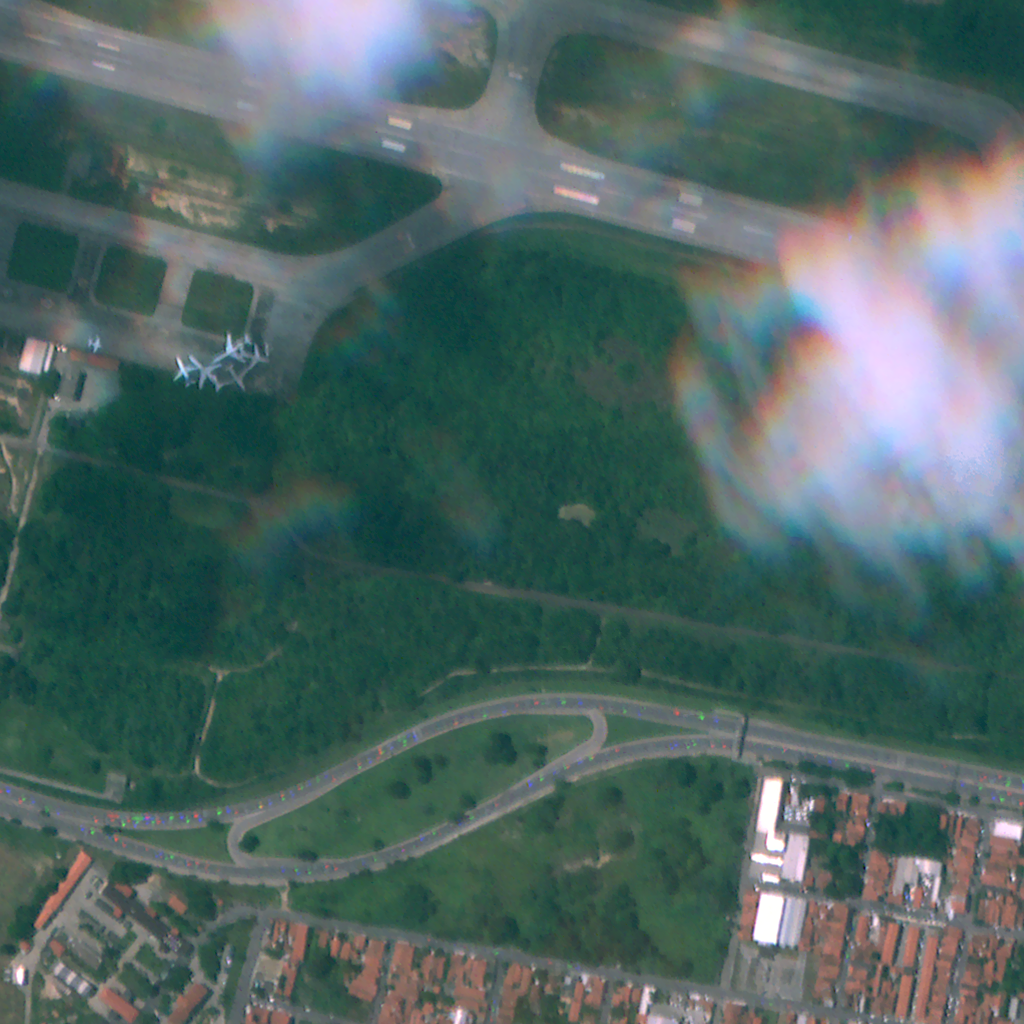plane: (218, 332, 252, 361), (244, 341, 267, 372), (170, 356, 194, 385), (200, 365, 224, 389), (229, 367, 254, 389)
